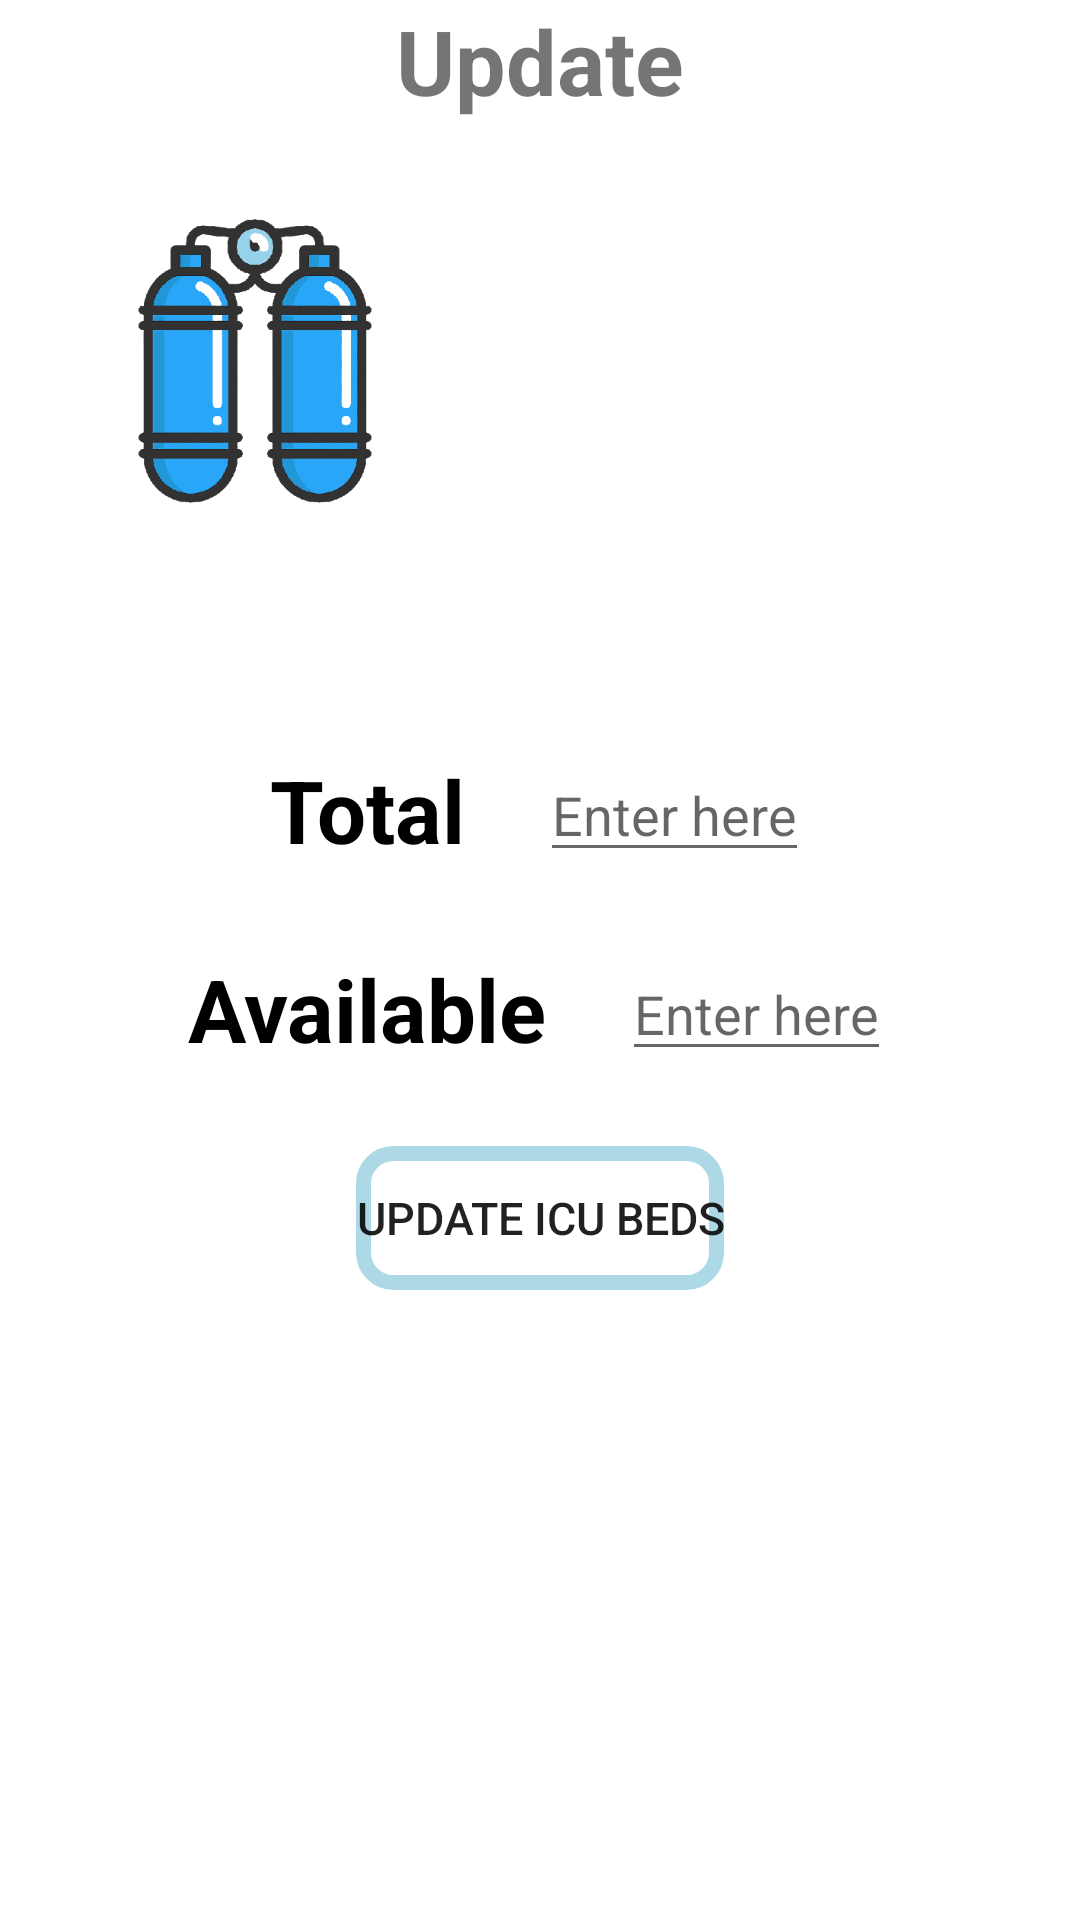

Named icons in this screenshot (1080px x 1920px) and their bounding boxes, (left=x1, top=y1, right=x2, bottom=y2):
oxygen: (left=138, top=219, right=372, bottom=503)
